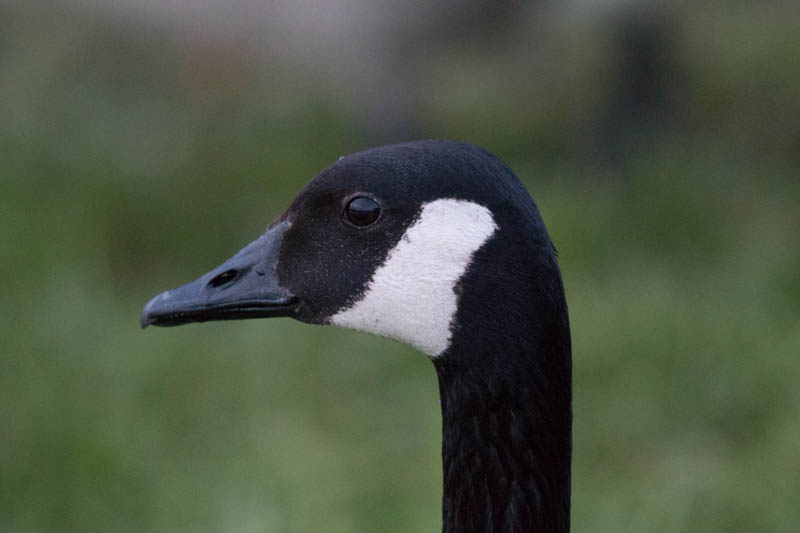goose-head: (139, 139, 572, 365)
